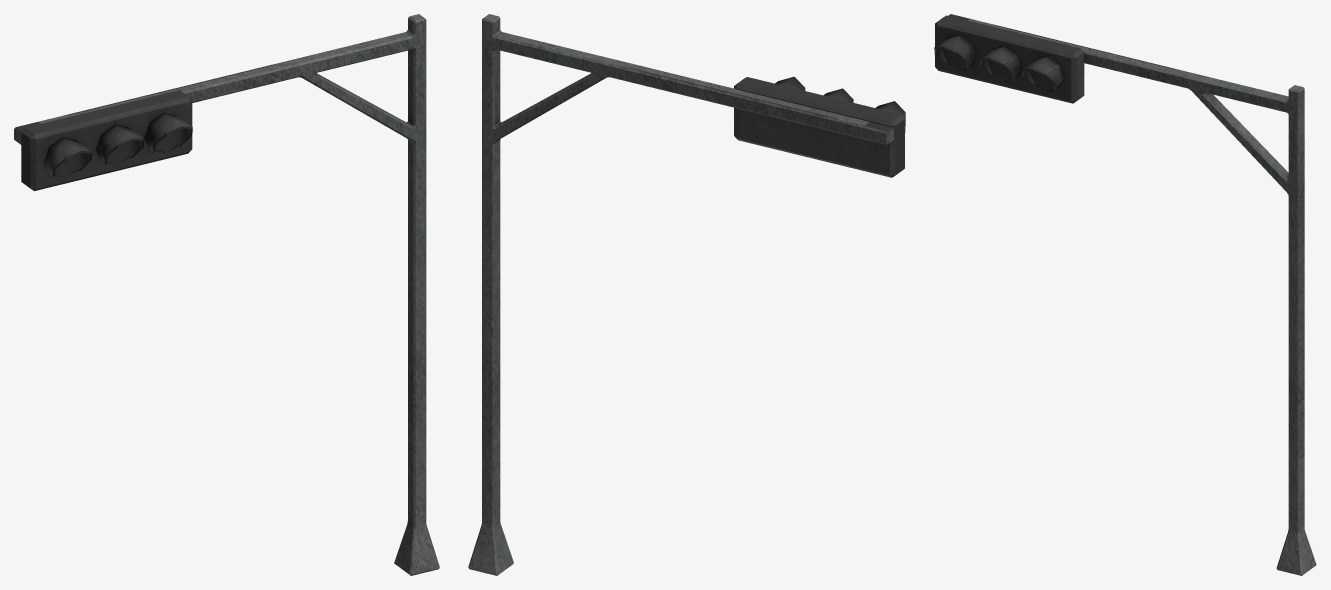
Rendered from TrafficSignal.fbx.
3 views of the same model, side by side, from view 1: azimuth 30°, elevation 25°; view 2: azimuth 150°, elevation 25°; view 3: azimuth 330°, elevation 25° (orthographic). The views are drawn at different scales.
Parts seen in each view (by area): view 1: TrafficSignal_LOD0; view 2: TrafficSignal_LOD0; view 3: TrafficSignal_LOD0.
Part boxes in pixels (x1,y1,x2,y2): TrafficSignal_LOD0: [14, 14, 439, 575]; TrafficSignal_LOD0: [468, 14, 905, 575]; TrafficSignal_LOD0: [934, 14, 1316, 575].
Size of what is drawn, in the model's own units: 316 by 400 by 56.52.
